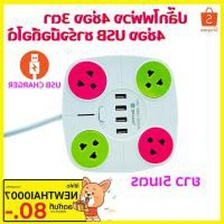three_eye_plug: (61, 49, 181, 176)
